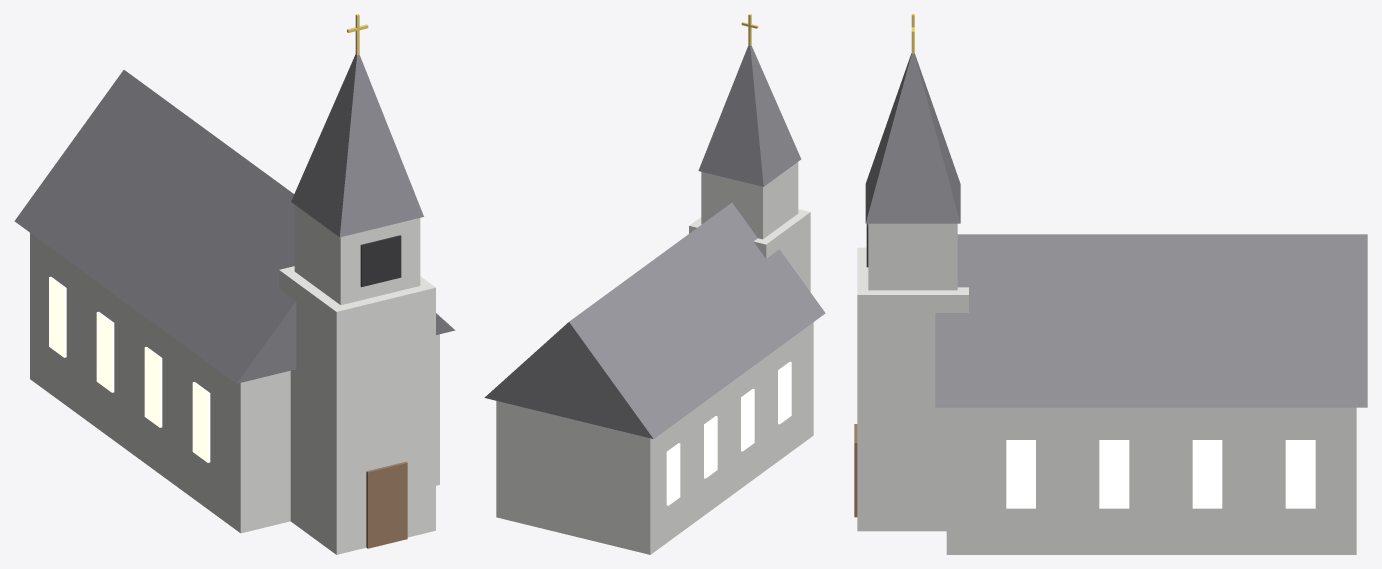
File: church.glb
3 views of the same model, side by side, from view 1: azimuth 30°, elevation 25°; view 2: azimuth 150°, elevation 25°; view 3: azimuth 270°, elevation 25° (orthographic). The views are drawn at different scales.
Parts seen in each view (by area): view 1: church; view 2: church; view 3: church.
Part boxes in pixels (bbox=[...]): church: bbox=[14, 14, 455, 554]; church: bbox=[484, 14, 825, 554]; church: bbox=[854, 14, 1367, 554].
Bounding box in the file's own units: 6.6 × 14.6 × 13.78.
